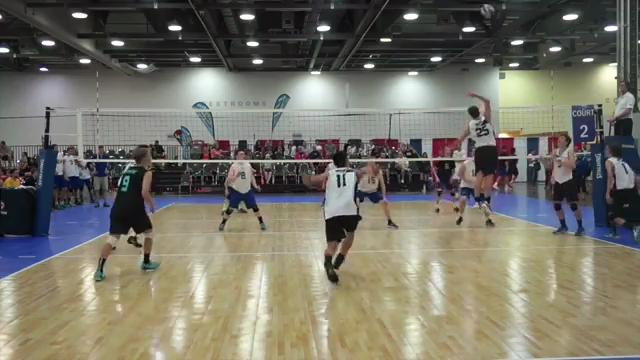Attack: (453, 86, 498, 218)
Player: (94, 147, 159, 280), (303, 151, 361, 282), (218, 150, 266, 230), (551, 134, 584, 235), (605, 145, 639, 241), (357, 162, 397, 228), (456, 159, 475, 224), (434, 160, 457, 212)
ball: (481, 3, 496, 21)
